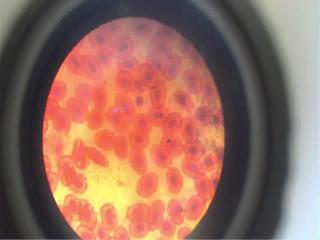cell: (136, 176, 164, 197), (81, 194, 98, 225), (53, 108, 73, 134), (150, 200, 166, 230), (164, 57, 184, 80), (68, 98, 88, 121), (64, 192, 81, 219), (100, 202, 120, 224), (126, 201, 149, 220), (150, 82, 170, 103), (129, 153, 151, 172), (114, 38, 136, 56), (172, 90, 194, 108), (131, 131, 153, 149), (116, 56, 142, 71), (202, 76, 218, 100), (166, 172, 185, 192), (49, 81, 70, 99), (154, 38, 173, 57), (64, 54, 82, 74), (94, 48, 112, 68), (132, 19, 153, 36), (84, 56, 98, 79), (90, 30, 110, 46), (134, 114, 154, 130), (140, 64, 155, 85), (60, 163, 76, 182), (187, 70, 200, 93), (211, 107, 225, 128), (116, 75, 134, 91), (182, 120, 196, 140), (132, 76, 148, 93), (185, 142, 204, 156), (197, 106, 210, 126), (132, 223, 150, 237), (150, 108, 166, 122), (202, 153, 215, 170), (168, 114, 179, 130)
